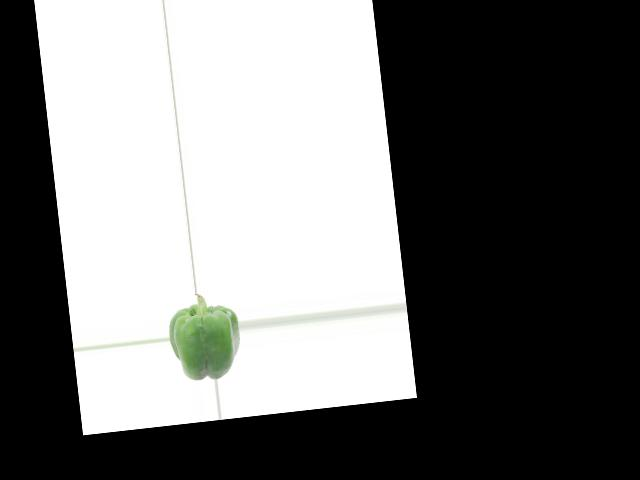bell_pepper: (165, 291, 243, 384)
